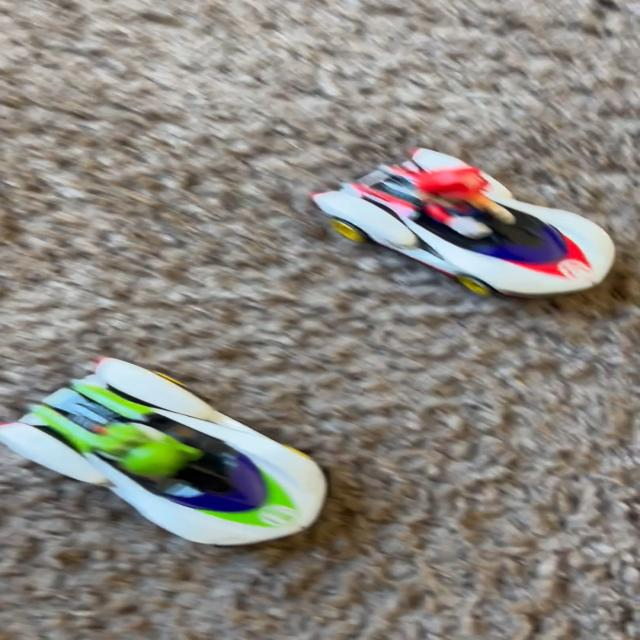mario: (319, 133, 640, 322)
yoshi: (0, 339, 358, 560)
